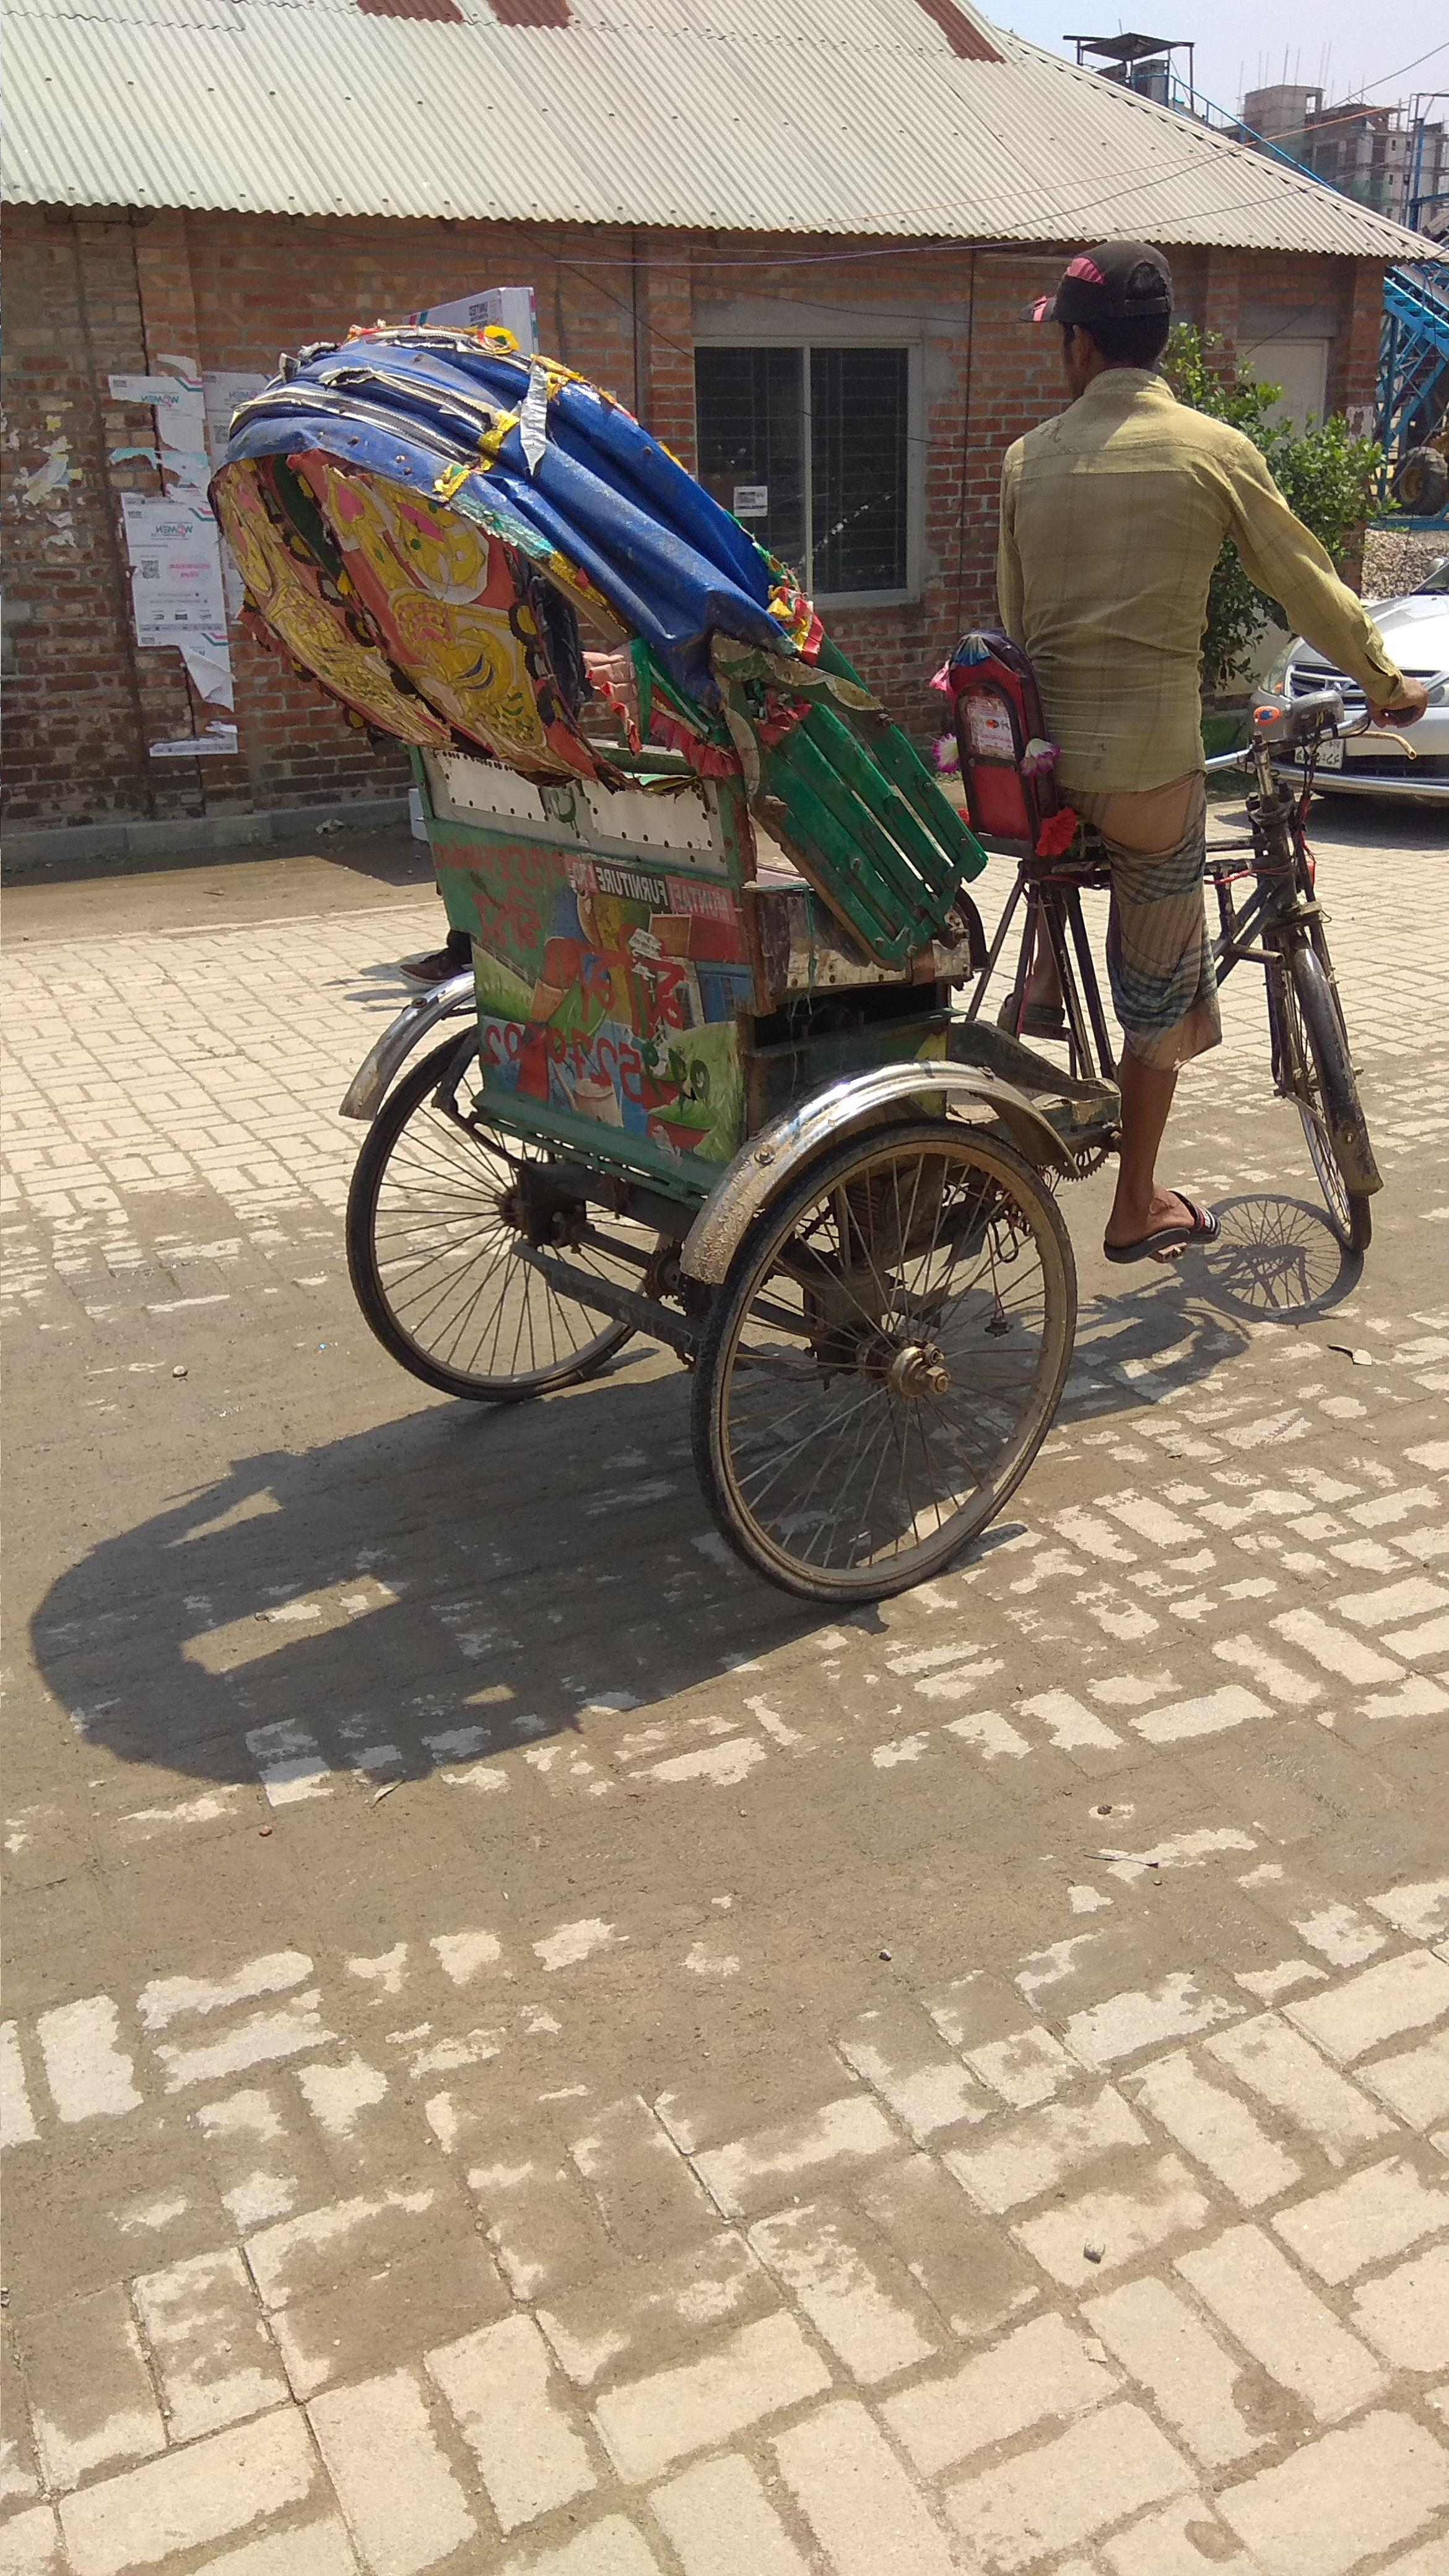Rickshaw: (188, 287, 1415, 1621)
